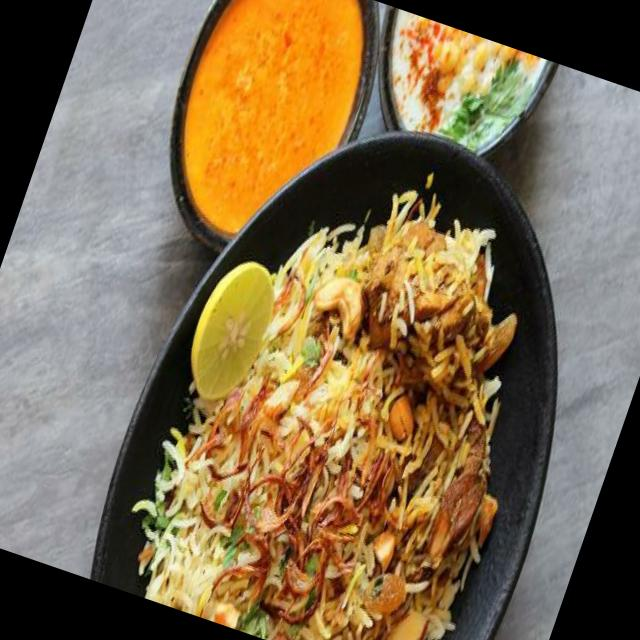Biryani: (103, 120, 598, 640)
